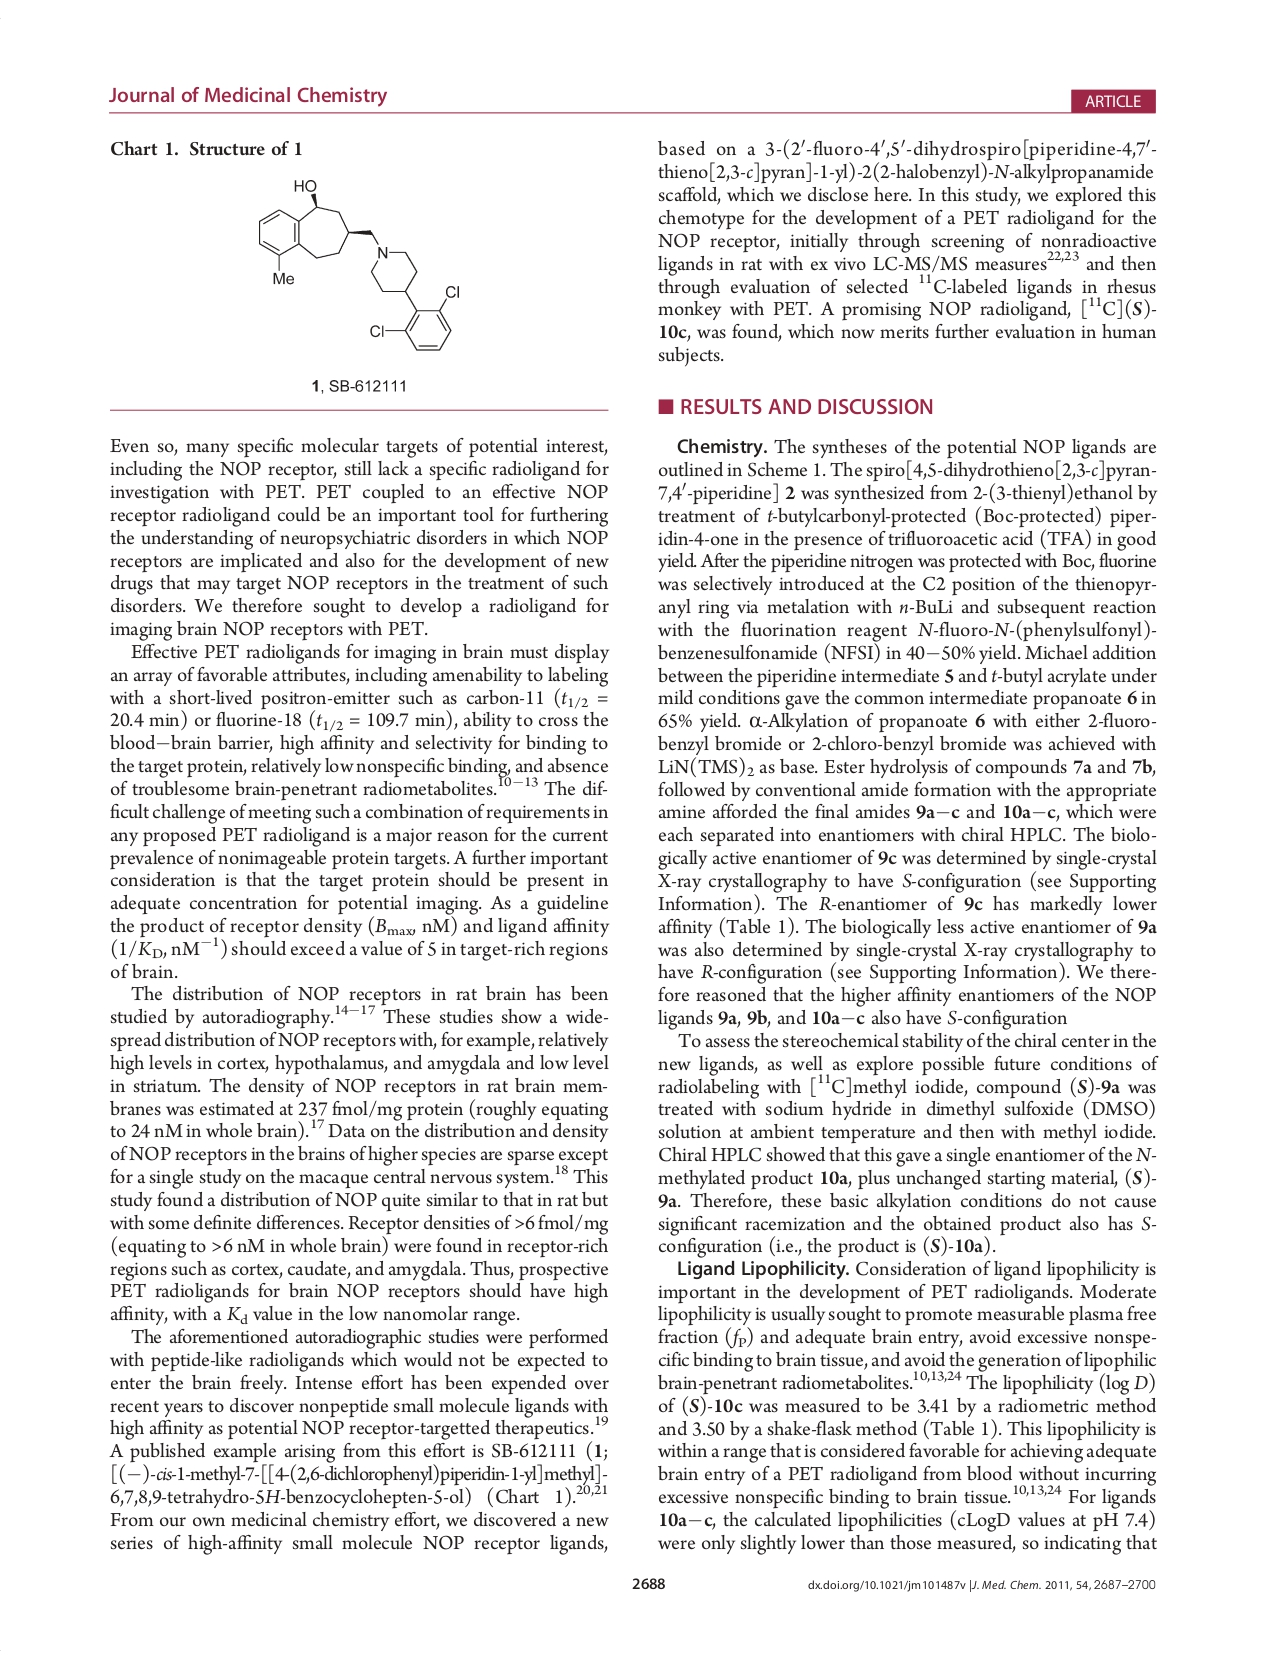exist_molecular: (253, 176, 461, 359)
